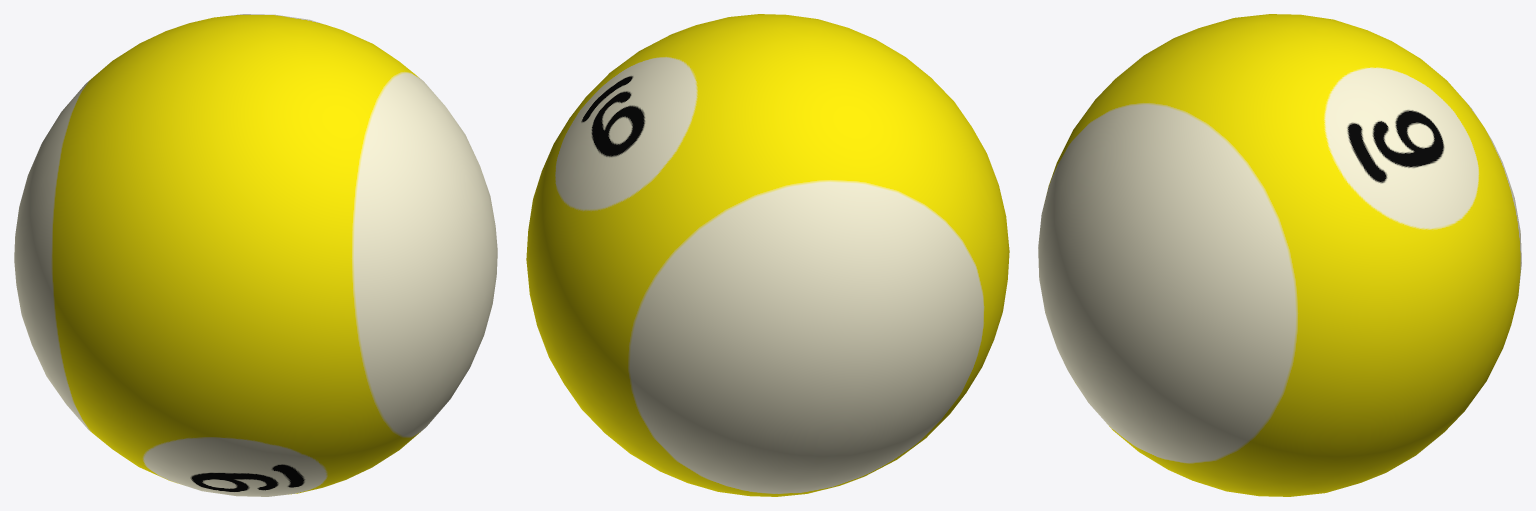
File: bola2.obj
3 renders of one model, left to right at view 1: azimuth 30°, elevation 25°; view 2: azimuth 150°, elevation 25°; view 3: azimuth 270°, elevation 25°, orthographic.
Parts seen in each view (by area): view 1: 9_Ball; view 2: 9_Ball; view 3: 9_Ball.
Boxes of the visible parts, x1,y1,x2,y2 form: 9_Ball: (14,14,497,496); 9_Ball: (526,14,1009,496); 9_Ball: (1038,14,1521,496).
Size of the model in its own units: 0.051 by 0.0508 by 0.0509.
1 material, 1 textured.
